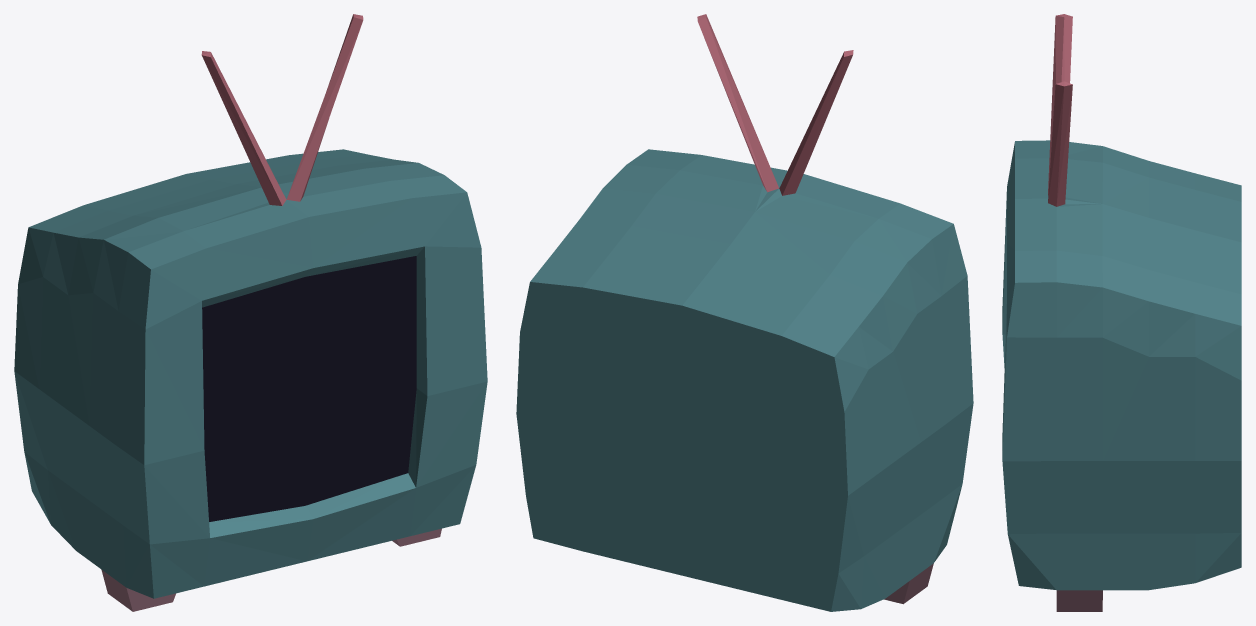
3 views of the same model, side by side, from view 1: azimuth 30°, elevation 25°; view 2: azimuth 150°, elevation 25°; view 3: azimuth 270°, elevation 25° (orthographic). The views are drawn at different scales.
Parts seen in each view (by area): view 1: pCube1; view 2: pCube1; view 3: pCube1.
Boxes of the visible parts, left/top/right/bottom form: pCube1: left=14, top=14, right=487, bottom=611; pCube1: left=516, top=14, right=973, bottom=611; pCube1: left=1002, top=14, right=1241, bottom=611.
Bounding box in the file's own units: 1.42 × 2.13 × 0.9331.
